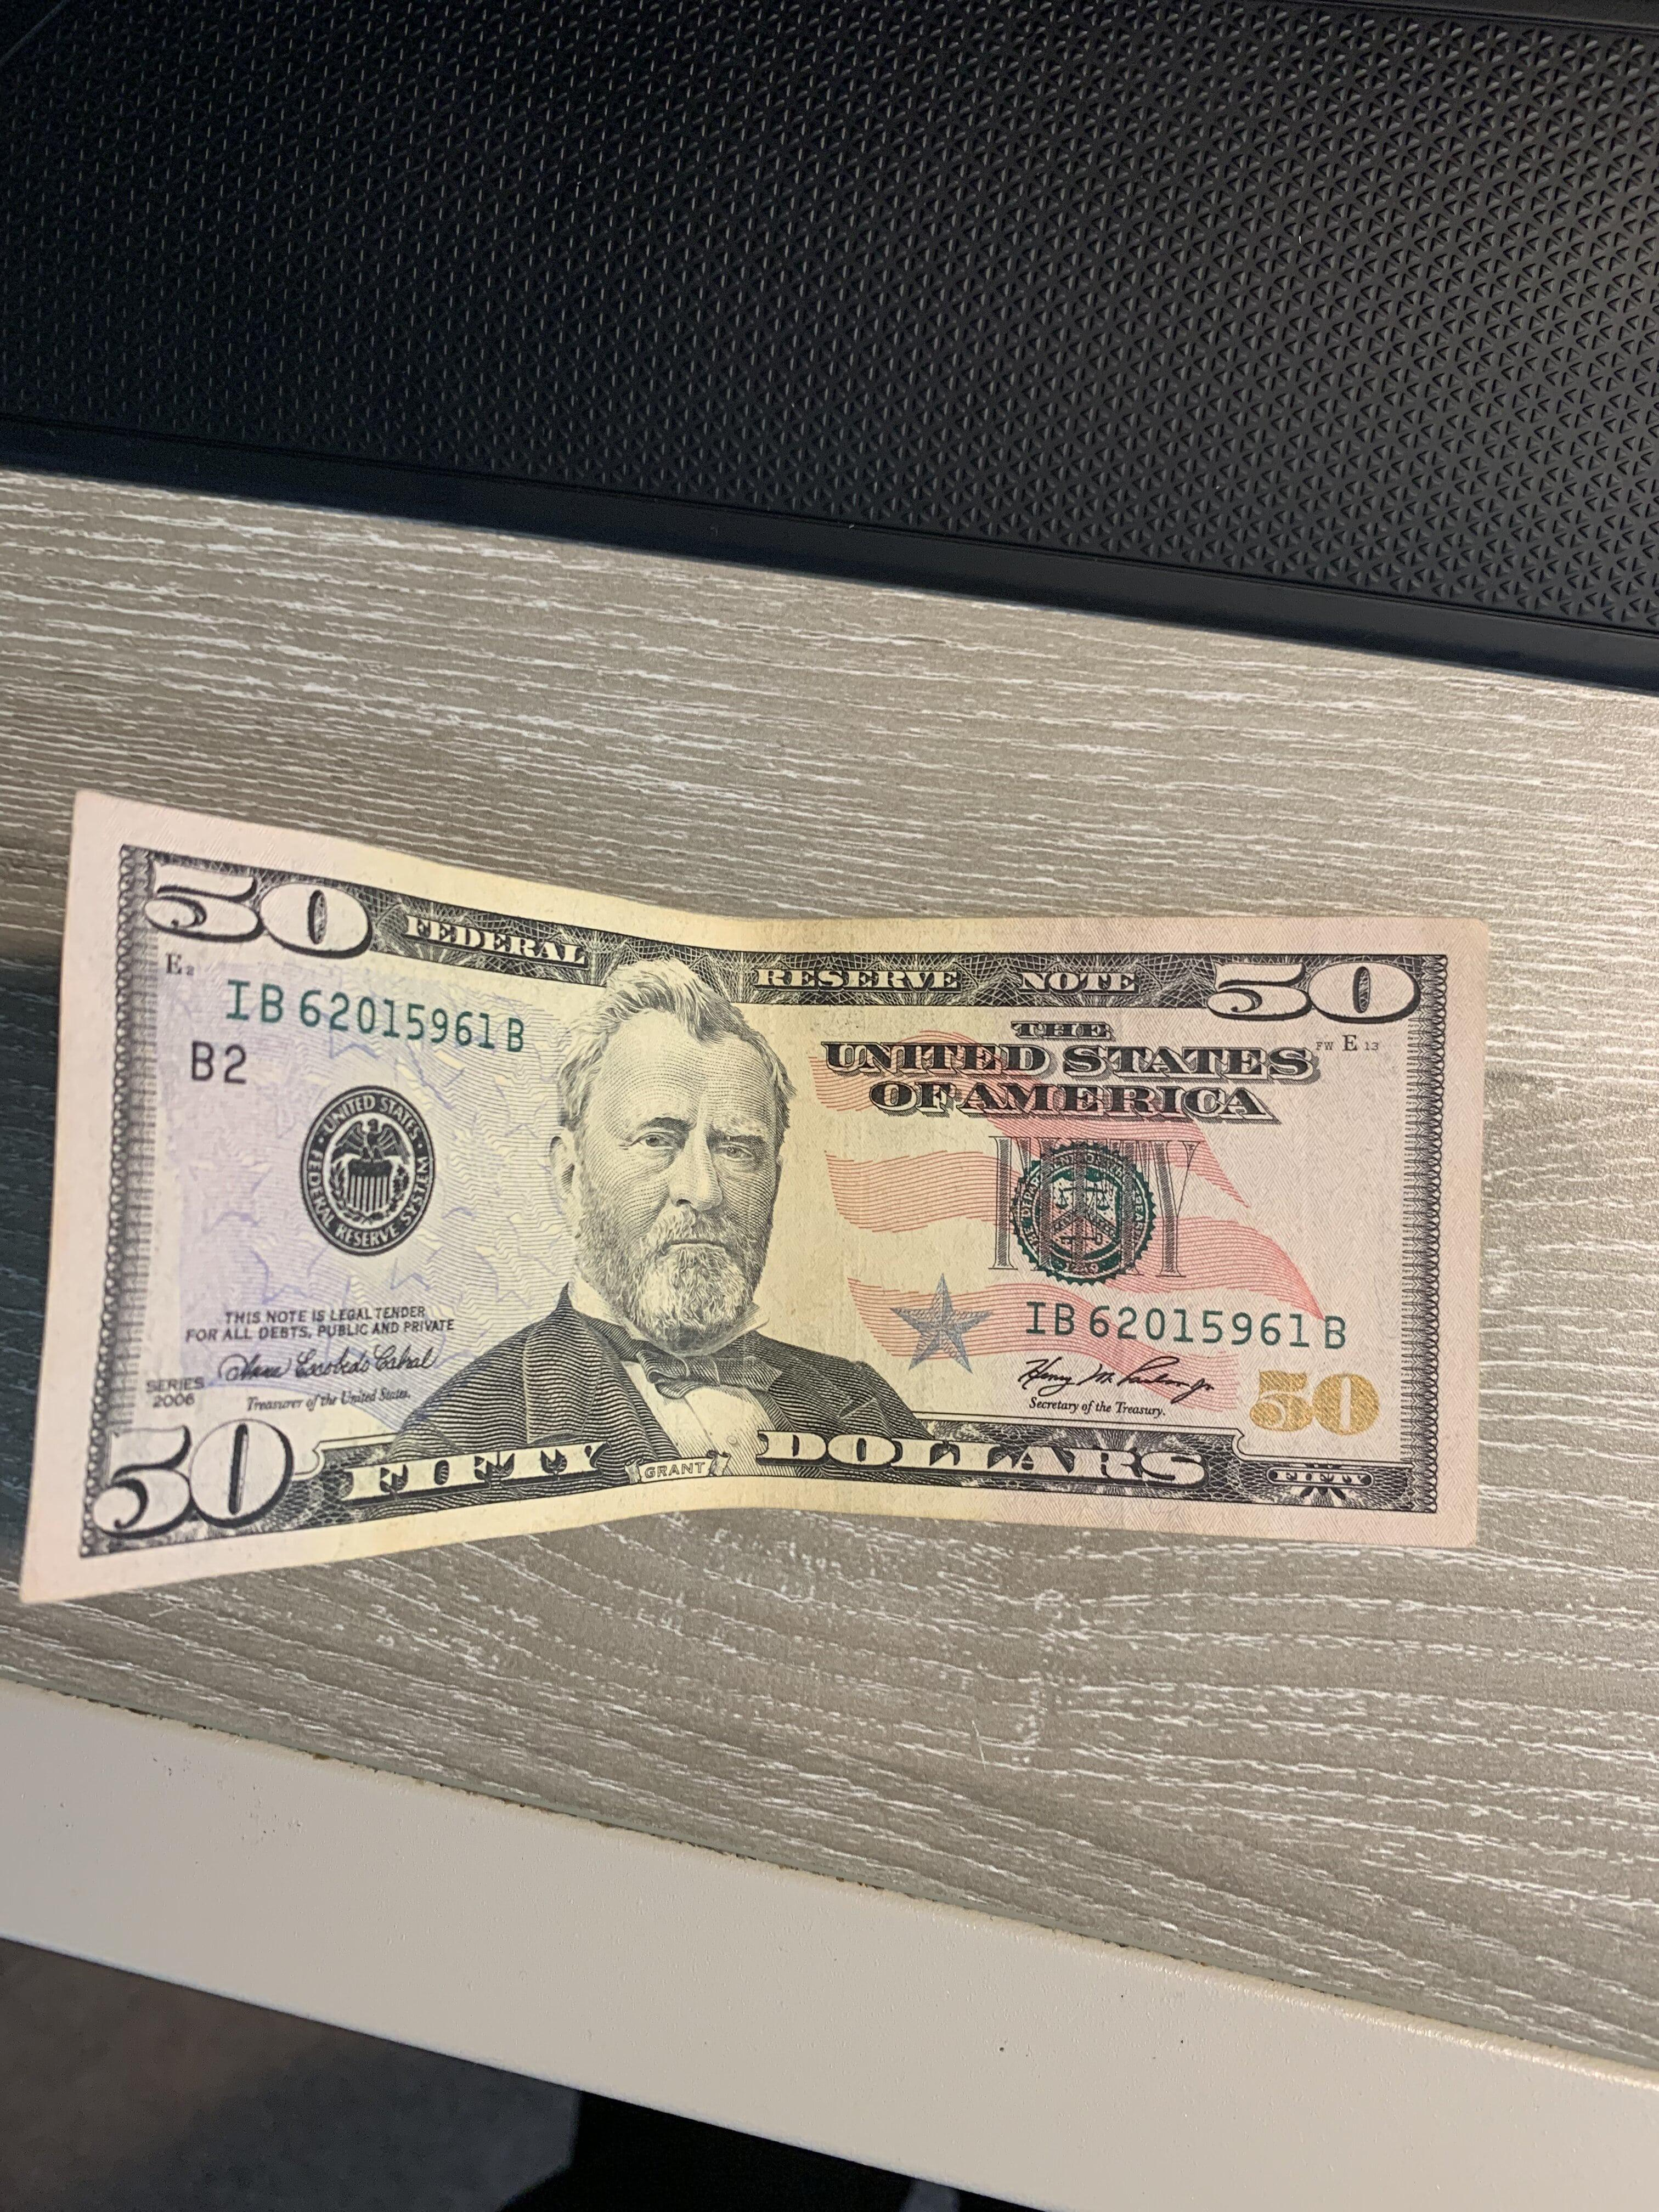FiftyBill: (9, 751, 1553, 1656)
